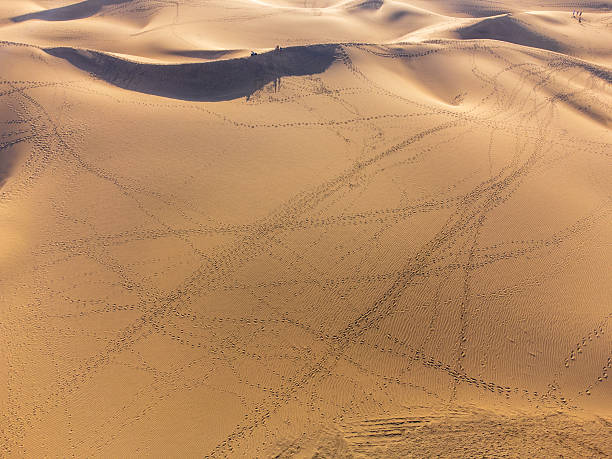animal_foot_print: (212, 162, 540, 450), (108, 120, 456, 347), (15, 87, 204, 259), (69, 194, 451, 250)
